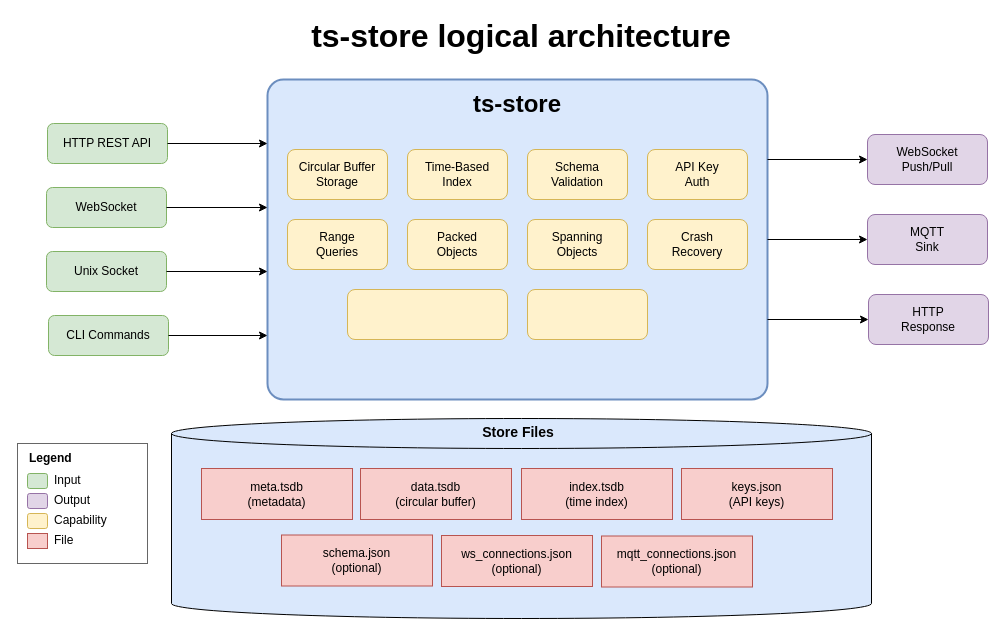
Some shapes in this 1006 by 636 pixel diagram are drawn without their labels. The centre of each missing label's shape, as x and y in pixels:
"Data Types (binary/text/json/schema)" goes at [427,314].
"Multi-Store Management" goes at [587,314].
